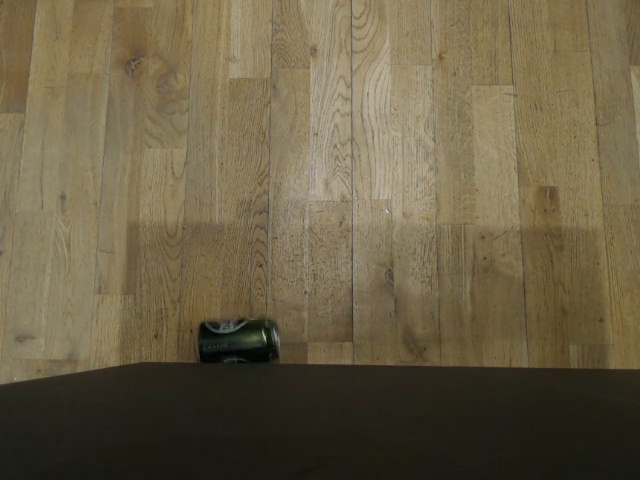beer: (194, 310, 284, 368)
